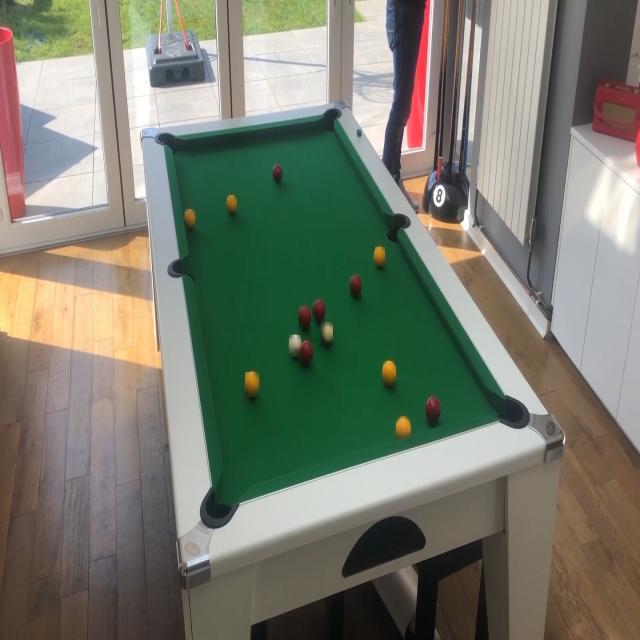Ball: (246, 372, 260, 397), (427, 397, 440, 422), (383, 361, 396, 385), (396, 416, 410, 438), (300, 342, 313, 365), (321, 322, 333, 346), (289, 335, 301, 357), (312, 300, 324, 322), (299, 306, 310, 327), (350, 276, 361, 297), (185, 209, 195, 229), (227, 195, 237, 215), (375, 247, 385, 266), (273, 165, 283, 182)
Billiard table: (140, 100, 567, 588)
